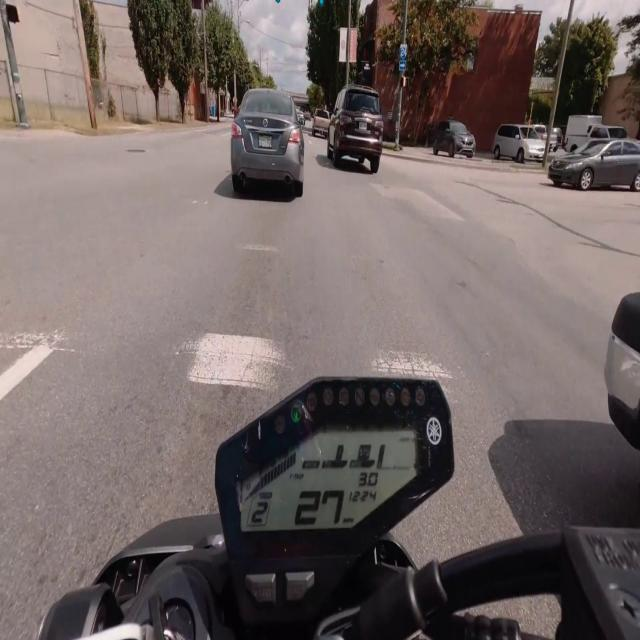car: (231, 89, 304, 196), (327, 85, 383, 173), (548, 140, 639, 191), (494, 125, 545, 162), (433, 119, 475, 157)
motorcycle: (39, 379, 639, 639)
